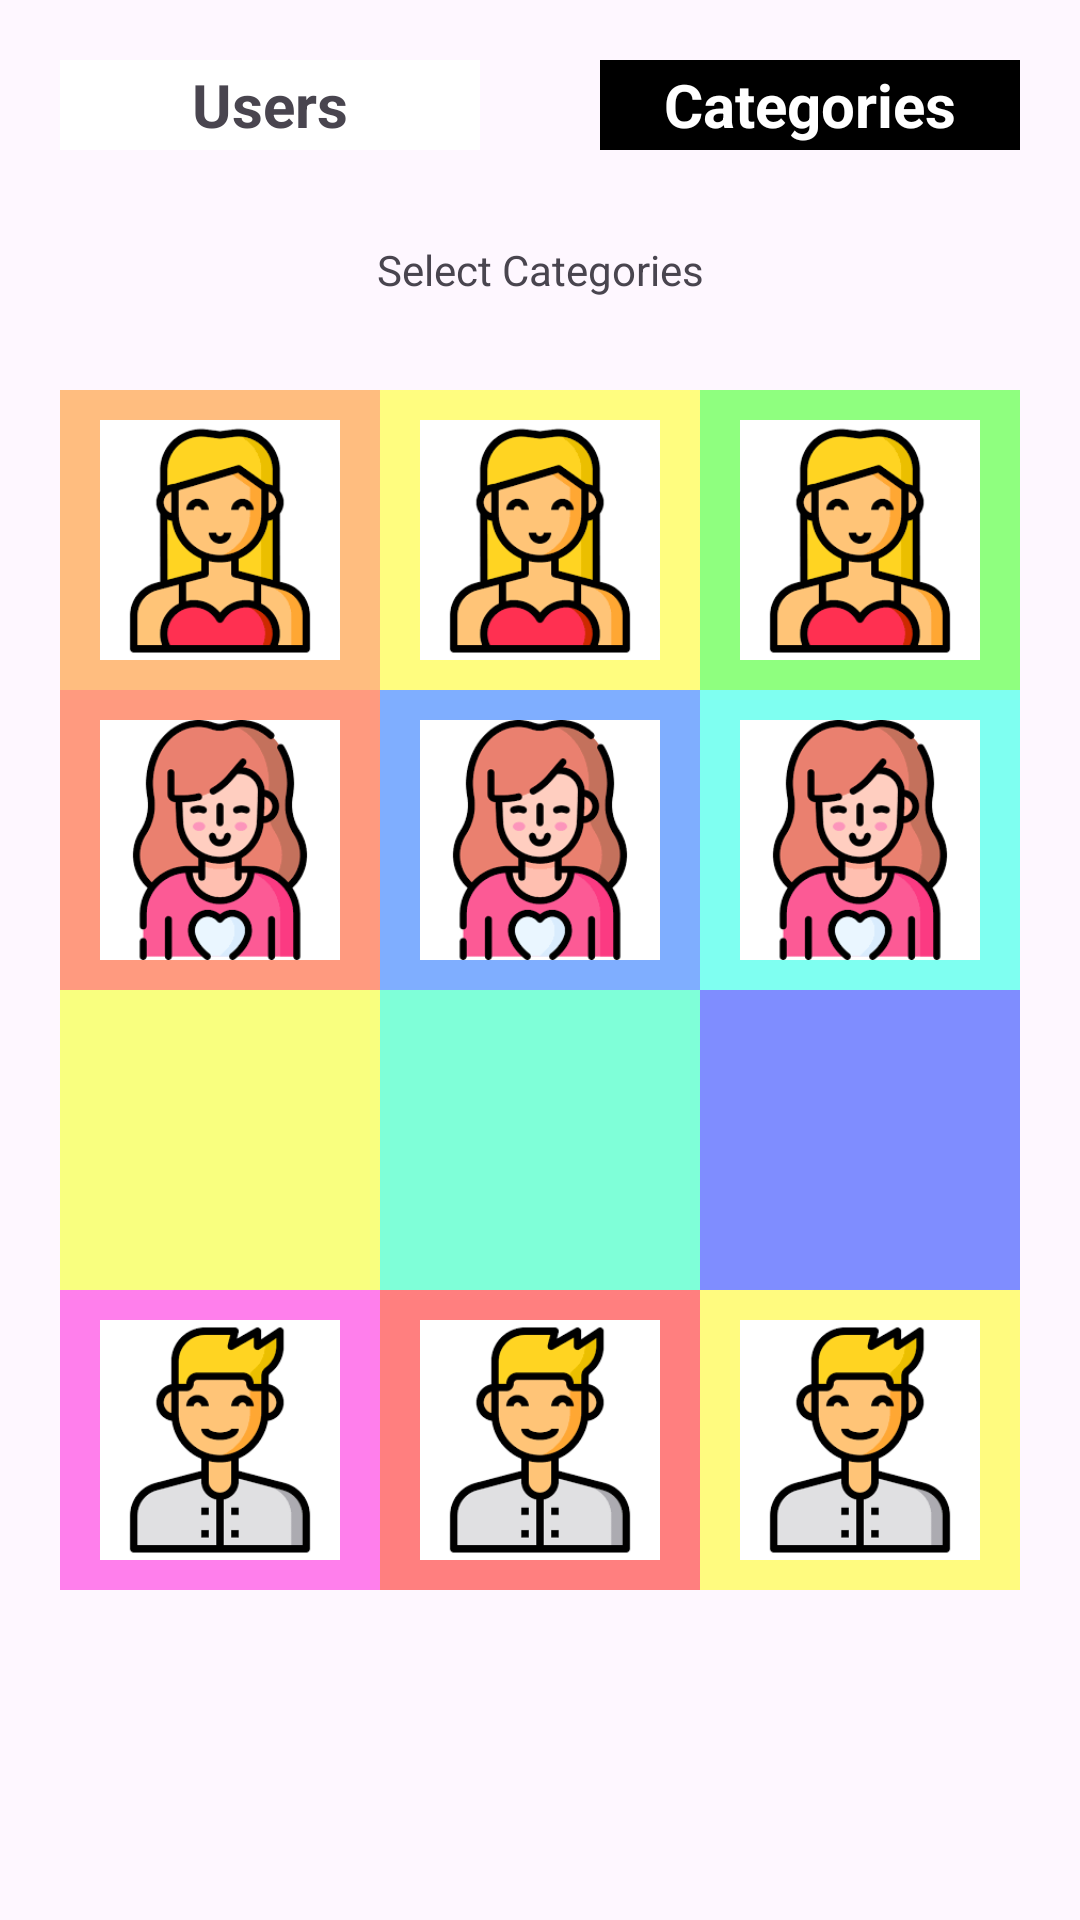

Where icons sit on this 1080*1920 app screen, as (x1, y1, x2, y2):
personacuatro: (100, 1320, 340, 1560), (420, 1320, 660, 1560), (740, 1320, 980, 1560)
personados: (100, 720, 340, 960), (420, 720, 660, 960), (740, 720, 980, 960)
personauno: (100, 420, 340, 660), (420, 420, 660, 660), (740, 420, 980, 660)
